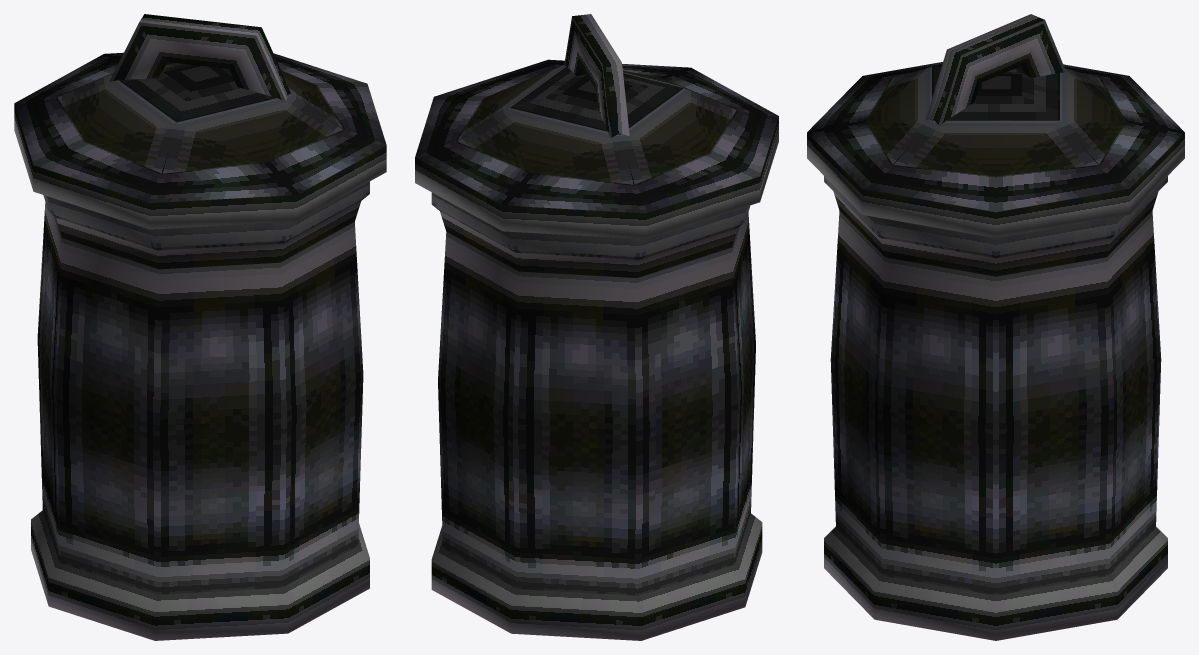
The model's file is prop_trash_can.glb.
3 views of the same model, side by side, from view 1: azimuth 30°, elevation 25°; view 2: azimuth 150°, elevation 25°; view 3: azimuth 270°, elevation 25° (orthographic). The views are drawn at different scales.
Visible parts, largest first — view 1: Metalic_Trash_Can; view 2: Metalic_Trash_Can; view 3: Metalic_Trash_Can.
Boxes of the visible parts, bbox=[...] form: Metalic_Trash_Can: bbox=[14, 14, 386, 640]; Metalic_Trash_Can: bbox=[415, 14, 778, 640]; Metalic_Trash_Can: bbox=[807, 14, 1184, 640].
Bounding box in the file's own units: 0.7686 × 1.2 × 0.7686.
Materials: 1 (1 with a texture image).
